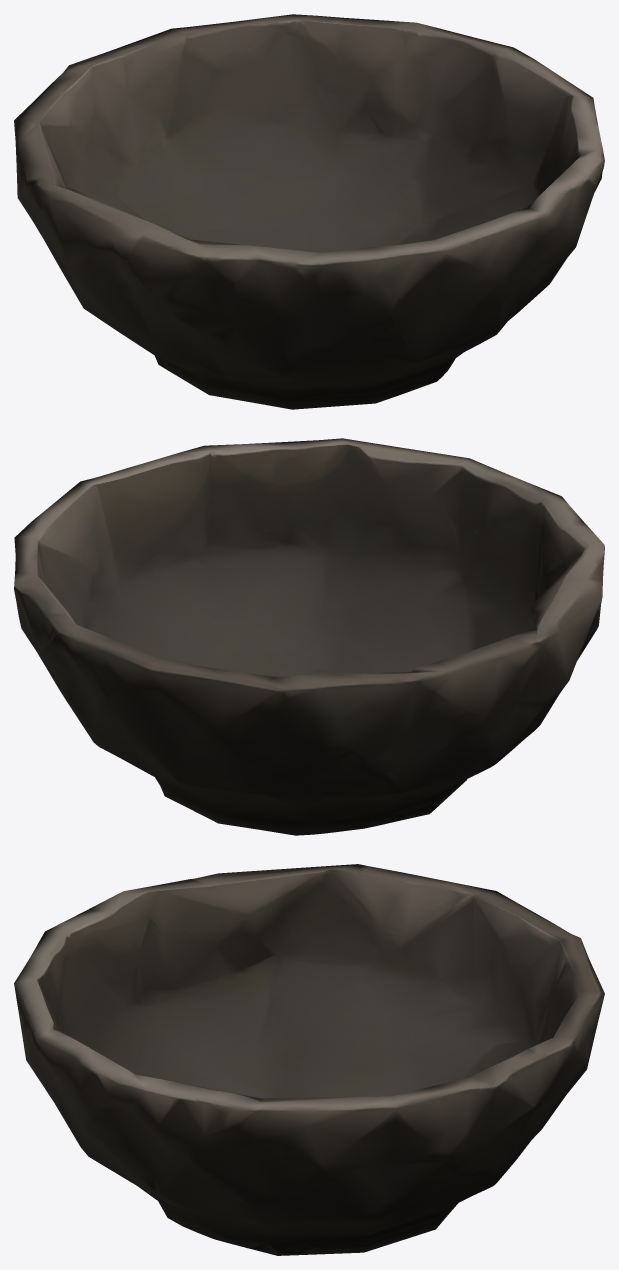
Rendered from faceted+bowl+3d+model.glb.
3 renders of one model, top to bottom at view 1: azimuth 30°, elevation 25°; view 2: azimuth 150°, elevation 25°; view 3: azimuth 270°, elevation 25°, orthographic.
Parts seen in each view (by area): view 1: tripo_node_38d02ba8-6ea2-4adc-9fdc-5204d5949a61; view 2: tripo_node_38d02ba8-6ea2-4adc-9fdc-5204d5949a61; view 3: tripo_node_38d02ba8-6ea2-4adc-9fdc-5204d5949a61.
Boxes of the visible parts, box(x1,y1,x2,y2) form: tripo_node_38d02ba8-6ea2-4adc-9fdc-5204d5949a61: box(14, 14, 604, 409); tripo_node_38d02ba8-6ea2-4adc-9fdc-5204d5949a61: box(14, 438, 604, 835); tripo_node_38d02ba8-6ea2-4adc-9fdc-5204d5949a61: box(14, 864, 604, 1255).
Bounding box in the file's own units: 0.9957 × 0.3846 × 1.
Materials: 1 (1 with a texture image).
